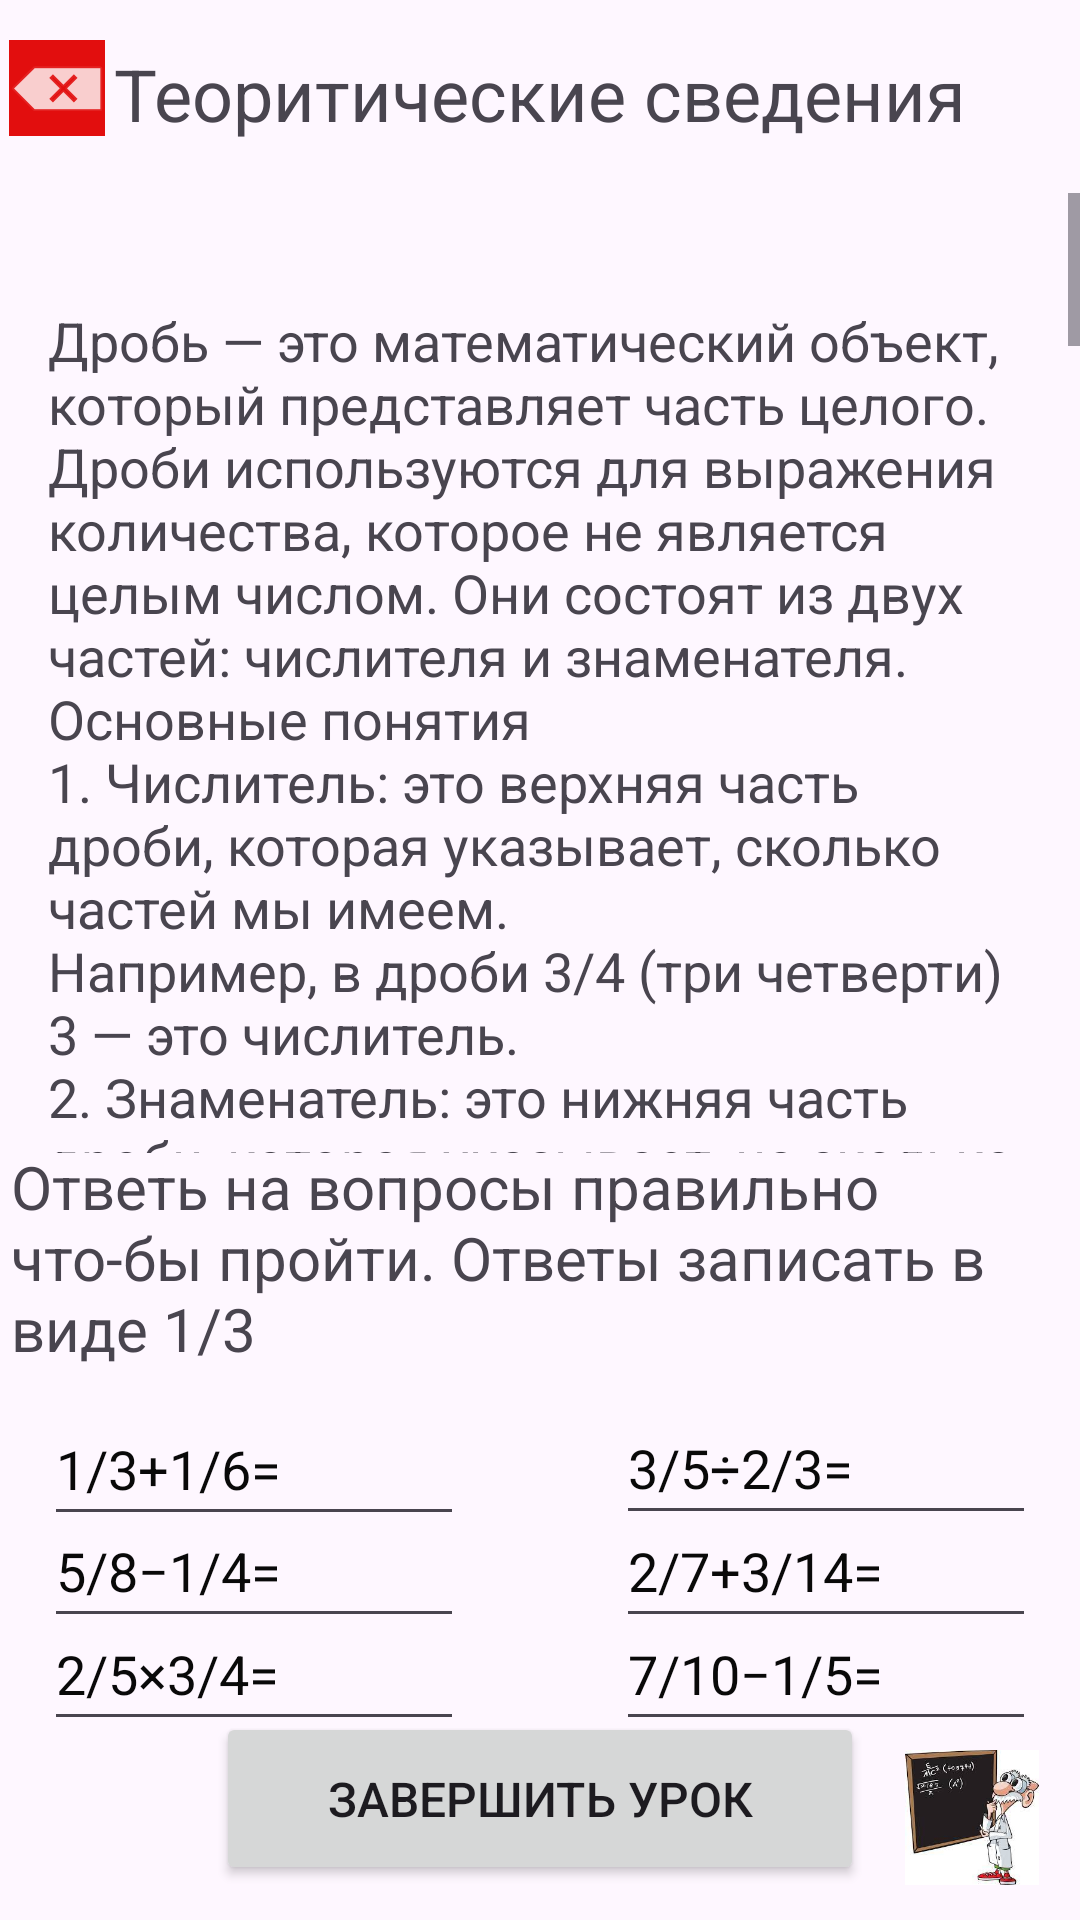

Locate icon controls on the screen. Image size 1080x1920, boxes as box(x1, y1, x2, y2).
delete: box(9, 40, 105, 136)
